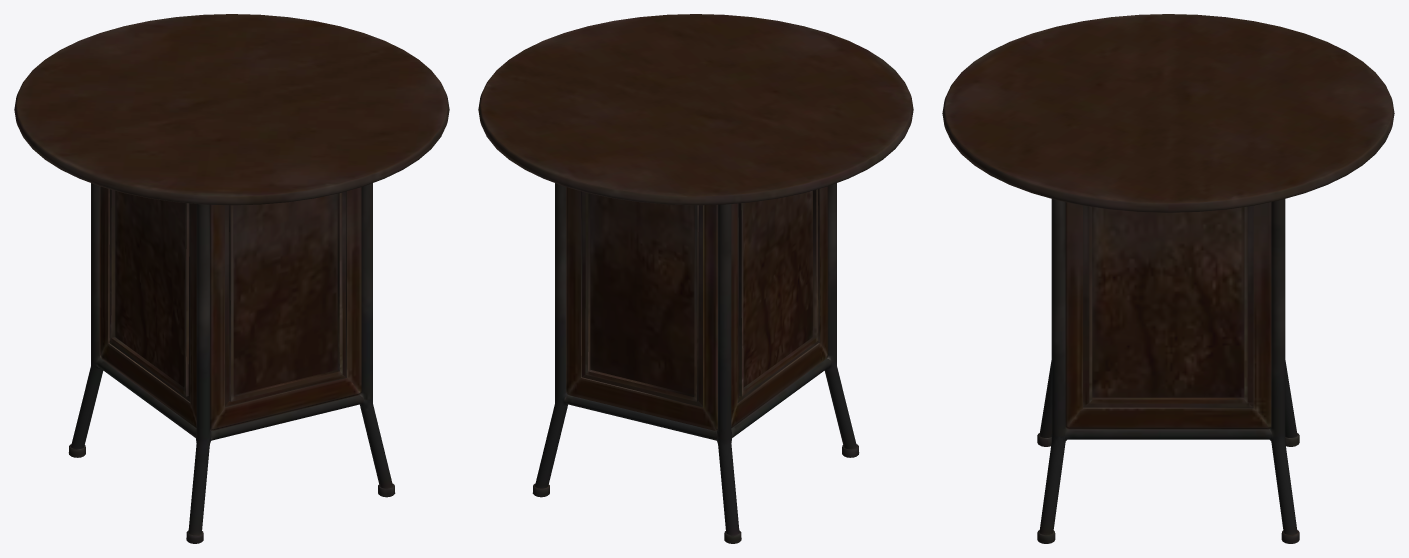
Rendered from round_wooden_table_02.glb.
3 renders of one model, left to right at view 1: azimuth 30°, elevation 25°; view 2: azimuth 150°, elevation 25°; view 3: azimuth 270°, elevation 25°, orthographic. The views are drawn at different scales.
Visible parts, largest first — view 1: round_wooden_table_02; view 2: round_wooden_table_02; view 3: round_wooden_table_02.
Boxes of the visible parts, x1,y1,x2,y2 form: round_wooden_table_02: (14, 14, 449, 543); round_wooden_table_02: (478, 14, 913, 543); round_wooden_table_02: (942, 14, 1394, 543).
Size of the model in its own units: 0.7962 by 0.746 by 0.7962.
Materials: 1 (1 with a texture image).
